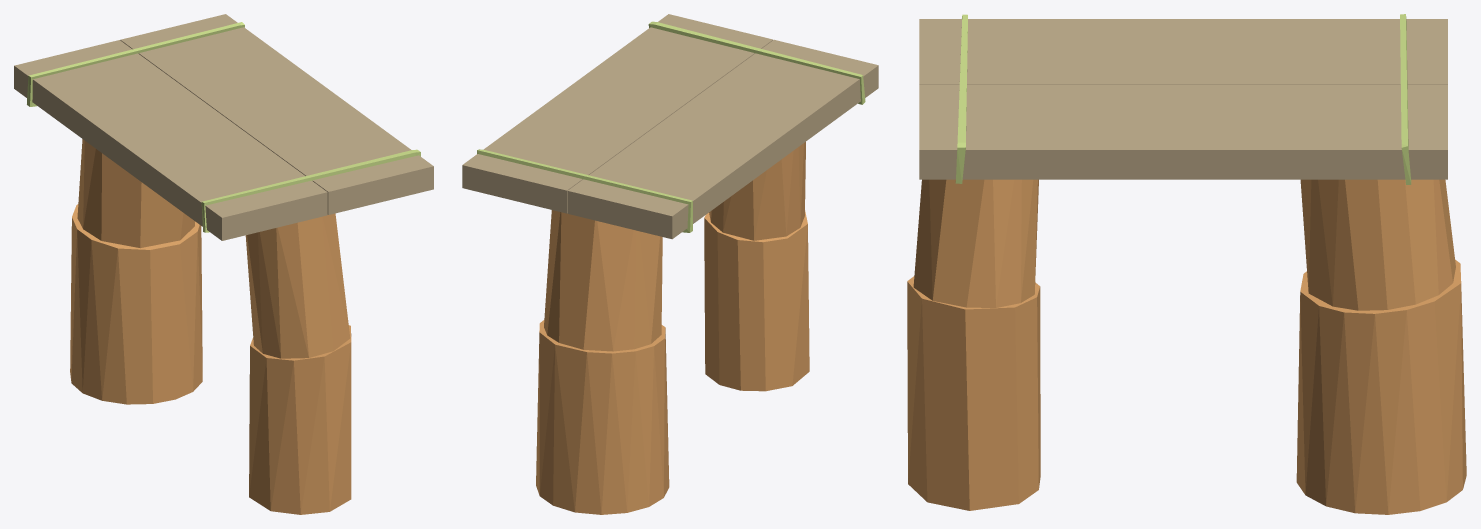
File: table.fbx
3 renders of one model, left to right at view 1: azimuth 30°, elevation 25°; view 2: azimuth 150°, elevation 25°; view 3: azimuth 270°, elevation 25°, orthographic. The views are drawn at different scales.
Parts seen in each view (by area): view 1: branch_top.3, branch_top.2, plank, plank.001, node1, node2; view 2: branch_top.2, plank, plank.001, branch_top.3, node1, node2; view 3: branch_top.2, plank.001, branch_top.3, plank, node1, node2.
Boxes of the visible parts, x1,y1,x2,y2 form: branch_top.3: (245, 213, 351, 514); branch_top.2: (70, 139, 202, 404); plank: (14, 40, 327, 240); plank.001: (120, 14, 433, 214); node1: (201, 149, 420, 232); node2: (27, 22, 244, 106); branch_top.2: (536, 210, 669, 514); plank: (567, 39, 878, 239); plank.001: (462, 14, 772, 213); branch_top.3: (704, 142, 809, 391); node1: (648, 21, 865, 104); node2: (477, 149, 692, 232); branch_top.2: (1296, 179, 1466, 514); plank.001: (919, 84, 1447, 179); branch_top.3: (907, 179, 1040, 510); plank: (919, 19, 1447, 84); node1: (955, 14, 967, 183); node2: (1400, 14, 1411, 184).
Size of the model in its own units: 53.99 by 76.32 by 95.28.
